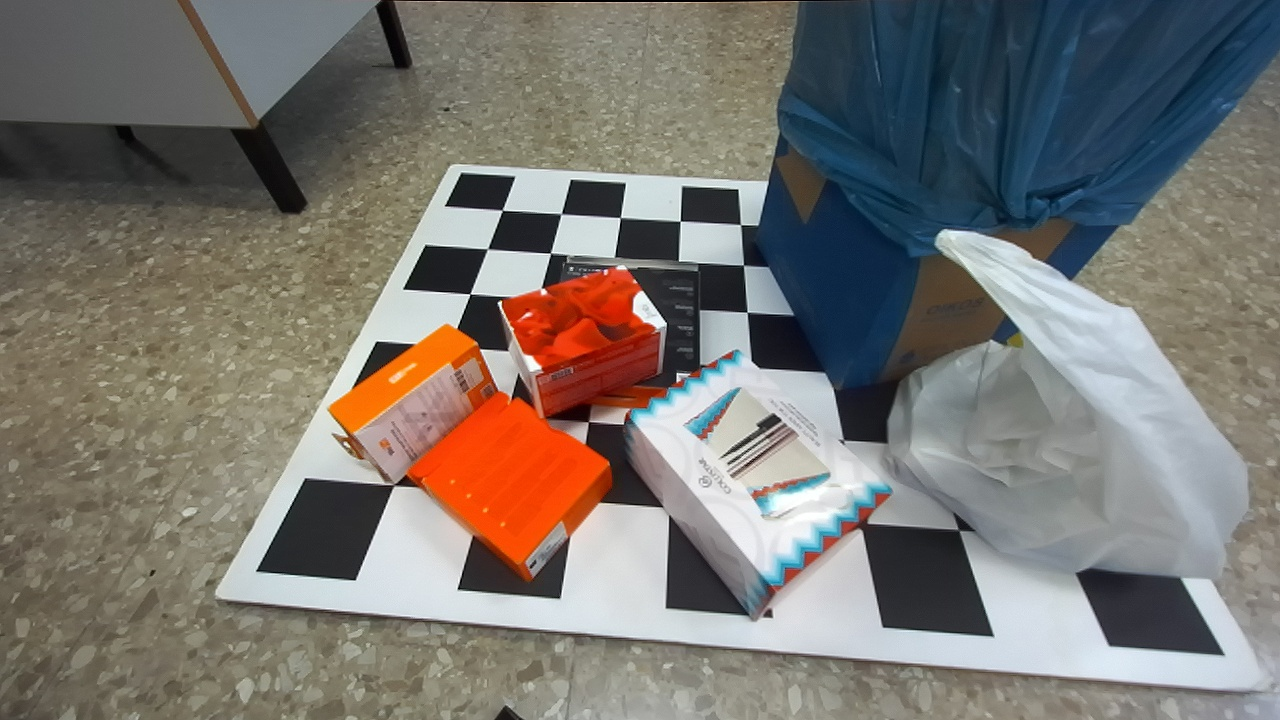caja_busbar: (625, 350, 891, 619)
caja_chasis: (559, 256, 700, 407)
caja_manguera: (408, 392, 611, 580)
caja_pcb: (329, 325, 494, 482)
caja_potencia: (500, 266, 665, 417)
